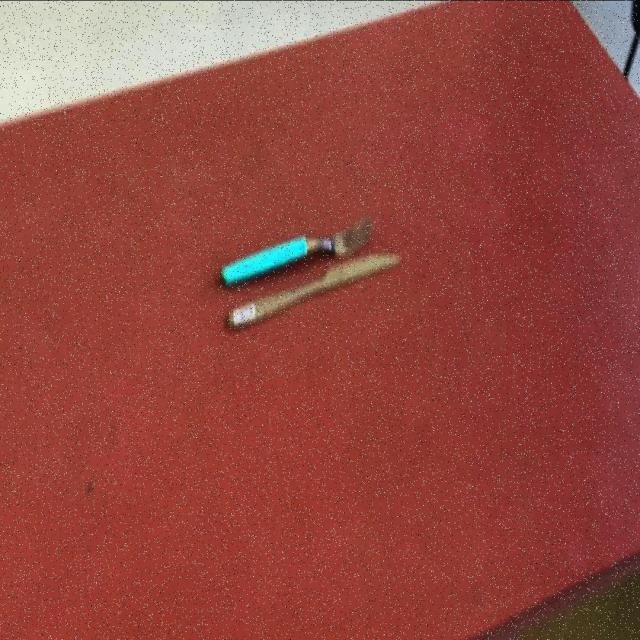Fork: (224, 254, 400, 332), (214, 221, 370, 290)
Knife: (222, 254, 400, 332), (214, 221, 370, 290)
